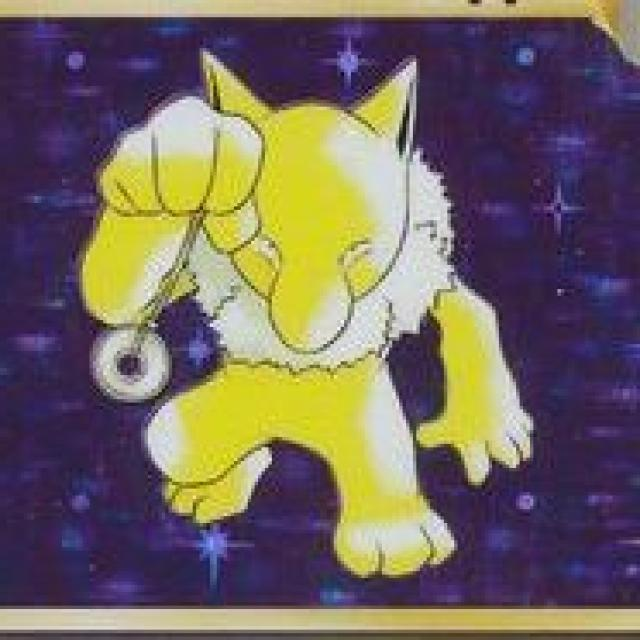Hypno: (87, 56, 490, 578)
